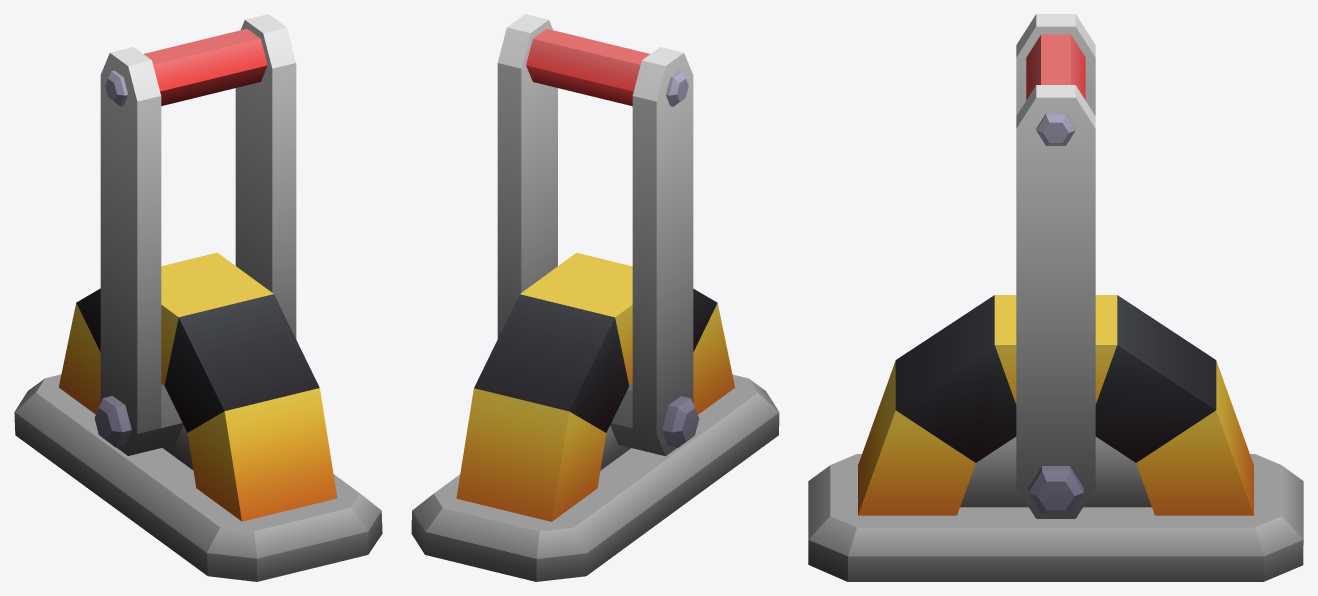
File: Lever.fbx
The picture shows the model from 3 angles, left to right: view 1: azimuth 30°, elevation 25°; view 2: azimuth 150°, elevation 25°; view 3: azimuth 270°, elevation 25°; orthographic projection. The views are drawn at different scales.
Visible parts, largest first — view 1: LeverBase, Lever, Cylinder001, Cylinder002; view 2: LeverBase, Lever, Cylinder001, Cylinder002; view 3: LeverBase, Lever, Cylinder001, Cylinder002.
Part boxes in pixels (x1,y1,x2,y2): LeverBase: (14,252,382,581); Lever: (100,14,296,455); Cylinder001: (94,396,131,447); Cylinder002: (105,70,127,106); LeverBase: (411,252,779,581); Lever: (497,14,693,456); Cylinder001: (662,396,699,447); Cylinder002: (665,70,688,106); LeverBase: (808,295,1303,581); Lever: (1016,14,1095,518); Cylinder001: (1028,466,1083,514); Cylinder002: (1036,113,1075,145).
Bounding box in the file's own units: 23.62 × 52.63 × 49.21.
